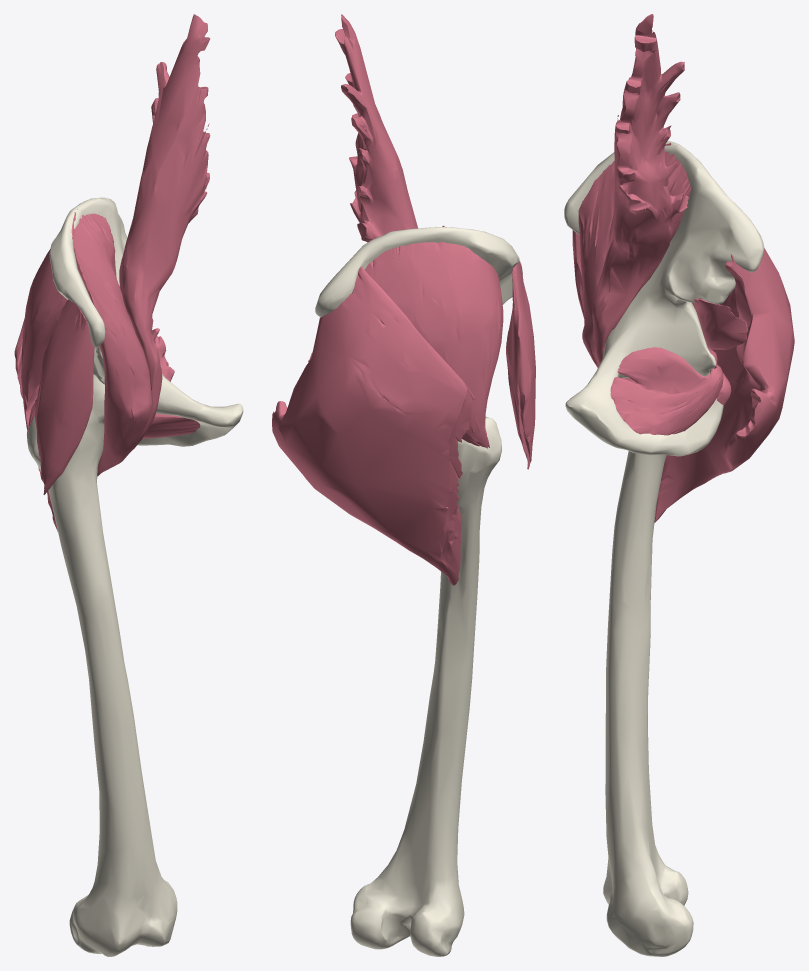
The model's file is hip.glb.
3 views of the same model, side by side, from view 1: azimuth 30°, elevation 25°; view 2: azimuth 150°, elevation 25°; view 3: azimuth 270°, elevation 25° (orthographic). The views are drawn at different scales.
Visible parts, largest first — view 1: femur, psoas-major, iliacus, tensor-fasciae-latae, hip-bone, gluteus-medius, obturator-externus, gluteus-maximus; view 2: gluteus-maximus, femur, gluteus-medius, psoas-major, hip-bone, tensor-fasciae-latae; view 3: femur, hip-bone, psoas-major, gluteus-maximus, obturator-internus, iliacus, piriformis, tensor-fasciae-latae.
Part boxes in pixels (box(x1,y1,x2,y2)): femur: box(26, 375, 177, 956); psoas-major: box(119, 14, 210, 451); iliacus: box(71, 209, 151, 476); tensor-fasciae-latae: box(35, 299, 94, 494); hip-bone: box(49, 197, 243, 446); gluteus-medius: box(21, 249, 67, 433); obturator-externus: box(142, 413, 200, 438); gluteus-maximus: box(14, 319, 174, 531); gluteus-maximus: box(272, 266, 474, 585); femur: box(350, 416, 501, 956); gluteus-medius: box(365, 242, 503, 448); psoas-major: box(335, 14, 417, 242); hip-bone: box(315, 227, 522, 317); tensor-fasciae-latae: box(506, 261, 535, 469); femur: box(603, 451, 693, 956); hip-bone: box(564, 140, 764, 456); psoas-major: box(592, 14, 688, 379); gluteus-maximus: box(654, 248, 794, 522); obturator-internus: box(610, 347, 723, 435); iliacus: box(578, 143, 691, 383); piriformis: box(692, 298, 748, 349); tensor-fasciae-latae: box(572, 230, 584, 318).
Bounding box in the file's own units: 0.1616 × 0.7306 × 0.1589.
